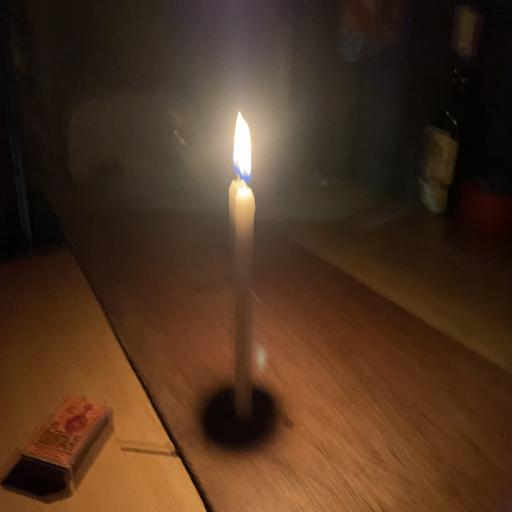fire: (206, 93, 284, 232)
